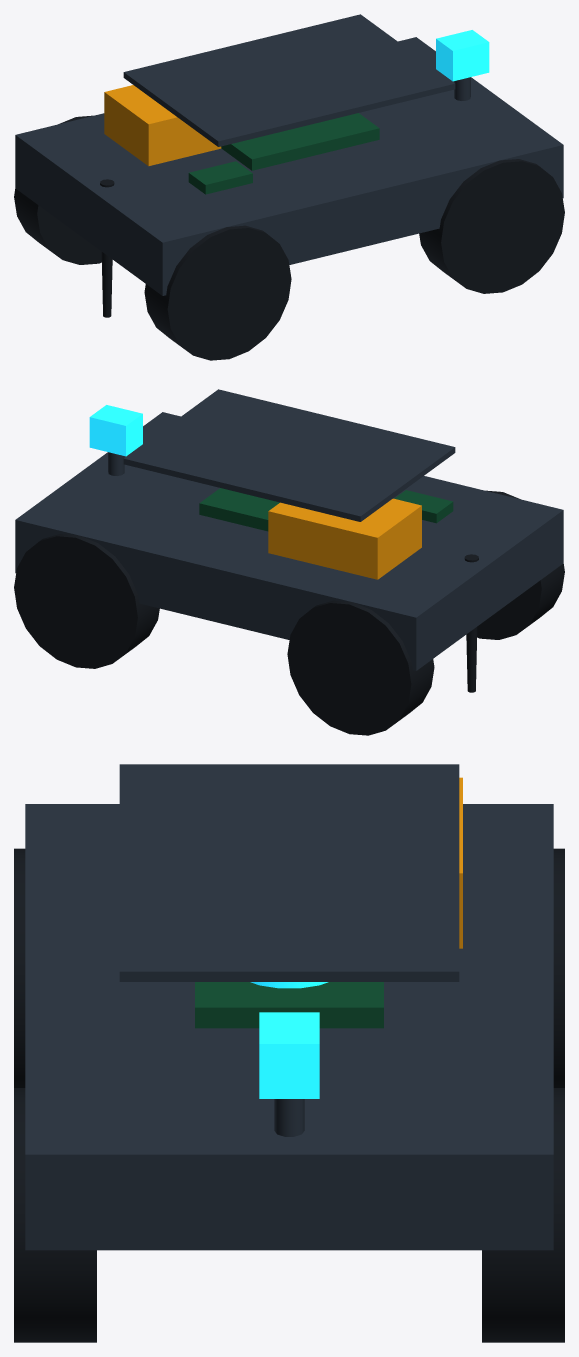
Rendered from demo-rover.glb.
3 views of the same model, one above another, from view 1: azimuth 30°, elevation 25°; view 2: azimuth 150°, elevation 25°; view 3: azimuth 270°, elevation 25° (orthographic). The views are drawn at different scales.
Visible parts, largest first — view 1: Chassis, SolarPanel, Wheel_RL, Wheel_FL, Battery, ControlBoard, Wheel_RR, Camera, ESP32, SoilProbe; view 2: Chassis, SolarPanel, Wheel_RR, Wheel_FR, Battery, Wheel_RL, Camera, ControlBoard, ESP32, SoilProbe; view 3: Chassis, SolarPanel, Wheel_FL, Wheel_FR, ControlBoard, Camera, Wheel_RL, Wheel_RR, CameraMast.
Boxes of the visible parts, bbox=[...] form: Chassis: bbox=[15, 37, 563, 295]; SolarPanel: bbox=[123, 14, 455, 146]; Wheel_RL: bbox=[144, 225, 291, 360]; Wheel_FL: bbox=[419, 159, 564, 293]; Battery: bbox=[104, 85, 221, 166]; ControlBoard: bbox=[221, 113, 379, 170]; Wheel_RR: bbox=[14, 115, 101, 264]; Camera: bbox=[436, 30, 489, 81]; ESP32: bbox=[188, 161, 252, 194]; SoilProbe: bbox=[100, 179, 114, 317]; Chassis: bbox=[15, 412, 563, 670]; SolarPanel: bbox=[123, 389, 455, 521]; Wheel_RR: bbox=[287, 600, 434, 735]; Wheel_FR: bbox=[14, 534, 159, 668]; Battery: bbox=[268, 498, 421, 579]; Wheel_RL: bbox=[477, 490, 564, 639]; Camera: bbox=[89, 405, 142, 456]; ControlBoard: bbox=[199, 488, 279, 531]; ESP32: bbox=[394, 490, 453, 523]; SoilProbe: bbox=[464, 554, 478, 692]; Chassis: bbox=[25, 804, 553, 1250]; SolarPanel: bbox=[119, 764, 459, 981]; Wheel_FL: bbox=[14, 1088, 96, 1342]; Wheel_FR: bbox=[482, 1088, 564, 1342]; ControlBoard: bbox=[195, 982, 383, 1028]; Camera: bbox=[259, 1012, 319, 1098]; Wheel_RL: bbox=[14, 848, 25, 1087]; Wheel_RR: bbox=[553, 848, 564, 1087]; CameraMast: bbox=[274, 1099, 304, 1136].
Bounding box in the file's own units: 2.2 × 1.01 × 1.46.
